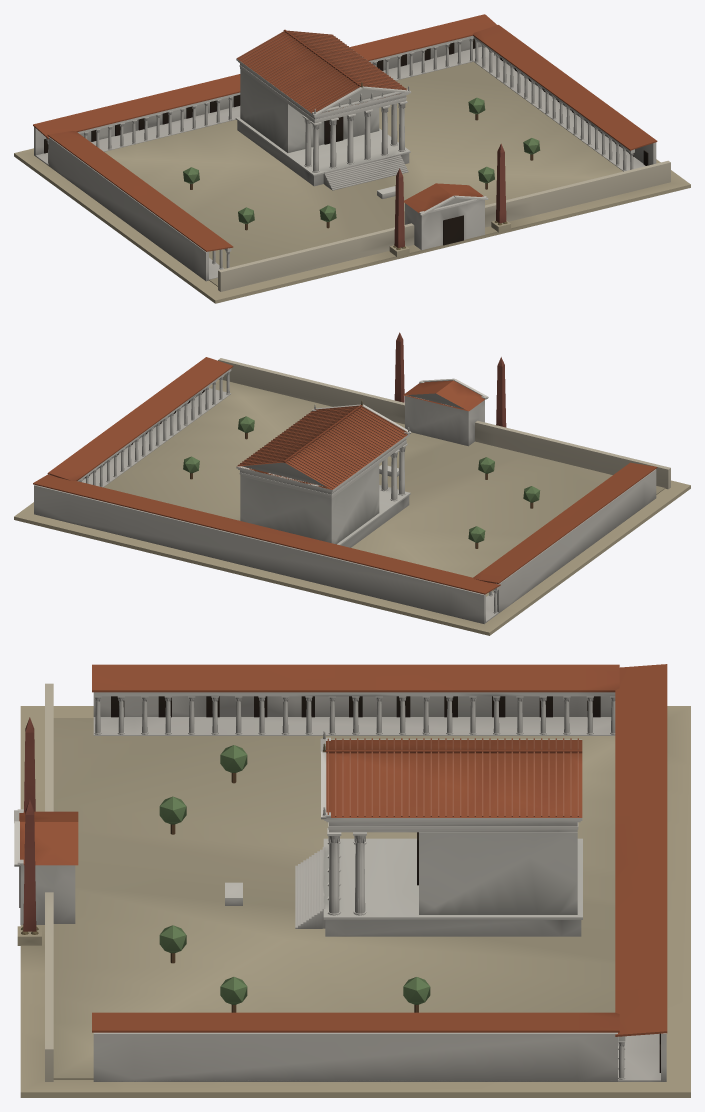
The model's file is caesareum.glb.
3 renders of one model, top to bottom at view 1: azimuth 30°, elevation 25°; view 2: azimuth 150°, elevation 25°; view 3: azimuth 270°, elevation 25°, orthographic. The views are drawn at different scales.
Parts seen in each view (by area): view 1: p0_precinct, p1_porticoes, p2_temple, p3_roof; view 2: p1_porticoes, p0_precinct, p3_roof, p2_temple; view 3: p0_precinct, p1_porticoes, p2_temple, p3_roof.
Part boxes in pixels (x1,y1,x2,y2): p0_precinct: (14, 62, 690, 303); p1_porticoes: (33, 14, 670, 291); p2_temple: (235, 69, 510, 257); p3_roof: (183, 29, 540, 230); p1_porticoes: (33, 357, 670, 623); p0_precinct: (14, 379, 690, 635); p3_roof: (183, 400, 540, 548); p2_temple: (240, 332, 506, 547); p0_precinct: (20, 706, 690, 1097); p1_porticoes: (14, 664, 667, 1081); p2_temple: (17, 717, 582, 945); p3_roof: (159, 731, 582, 1012).
Bounding box in the file's own units: 150 × 29.19 × 111.
